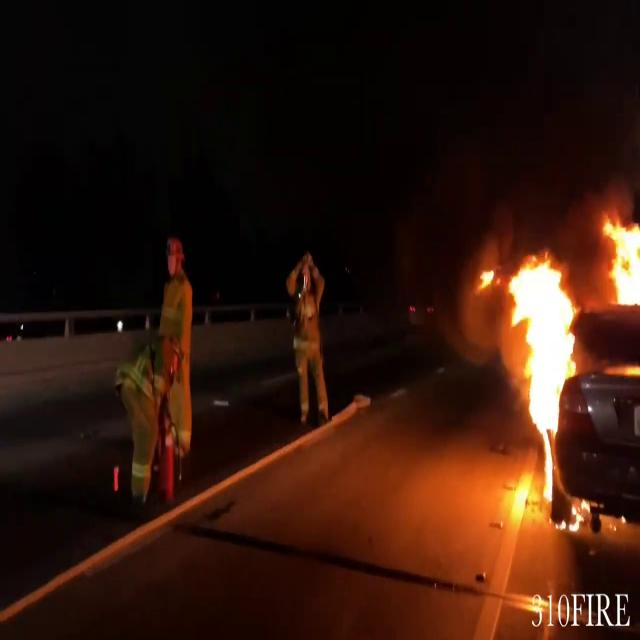Fire: (490, 251, 585, 526), (595, 207, 640, 309)
